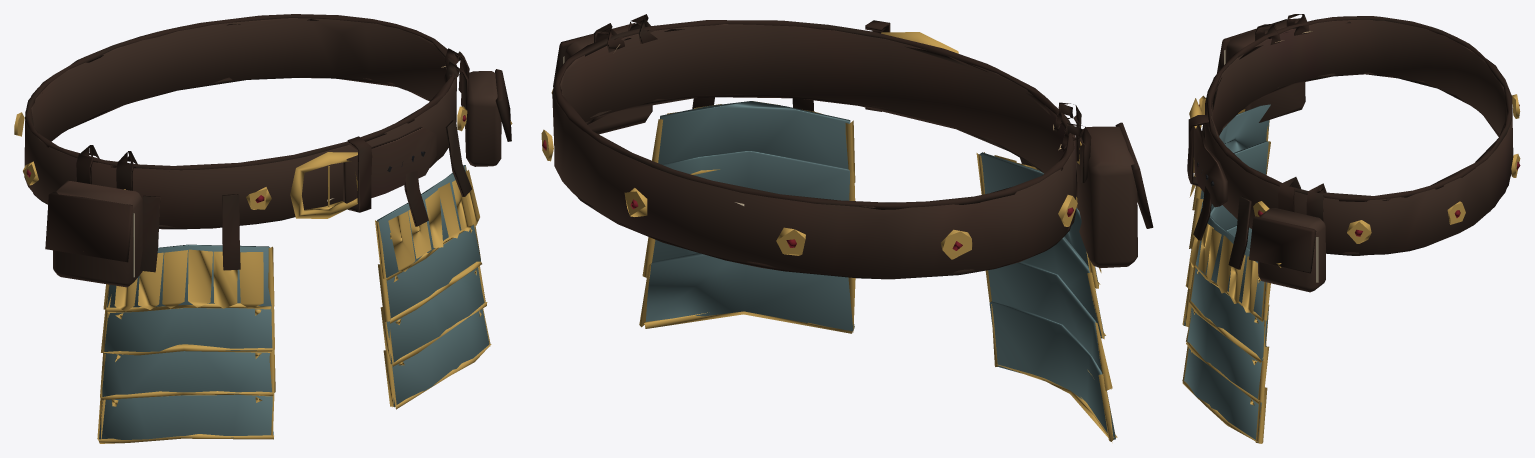
3 views of the same model, side by side, from view 1: azimuth 30°, elevation 25°; view 2: azimuth 150°, elevation 25°; view 3: azimuth 270°, elevation 25° (orthographic). The views are drawn at different scales.
Parts seen in each view (by area): view 1: tanned leather, gilded alloy; view 2: tanned leather, gilded alloy; view 3: tanned leather, gilded alloy.
Boxes of the visible parts, bbox=[...] form: tanned leather: bbox=[24, 14, 511, 287]; gilded alloy: bbox=[14, 106, 512, 443]; tanned leather: bbox=[542, 14, 1153, 279]; gilded alloy: bbox=[541, 32, 1117, 442]; tanned leather: bbox=[1187, 14, 1520, 292]; gilded alloy: bbox=[1182, 94, 1520, 443].
Bounding box in the file's own units: 0.456 × 0.2523 × 0.2956.
